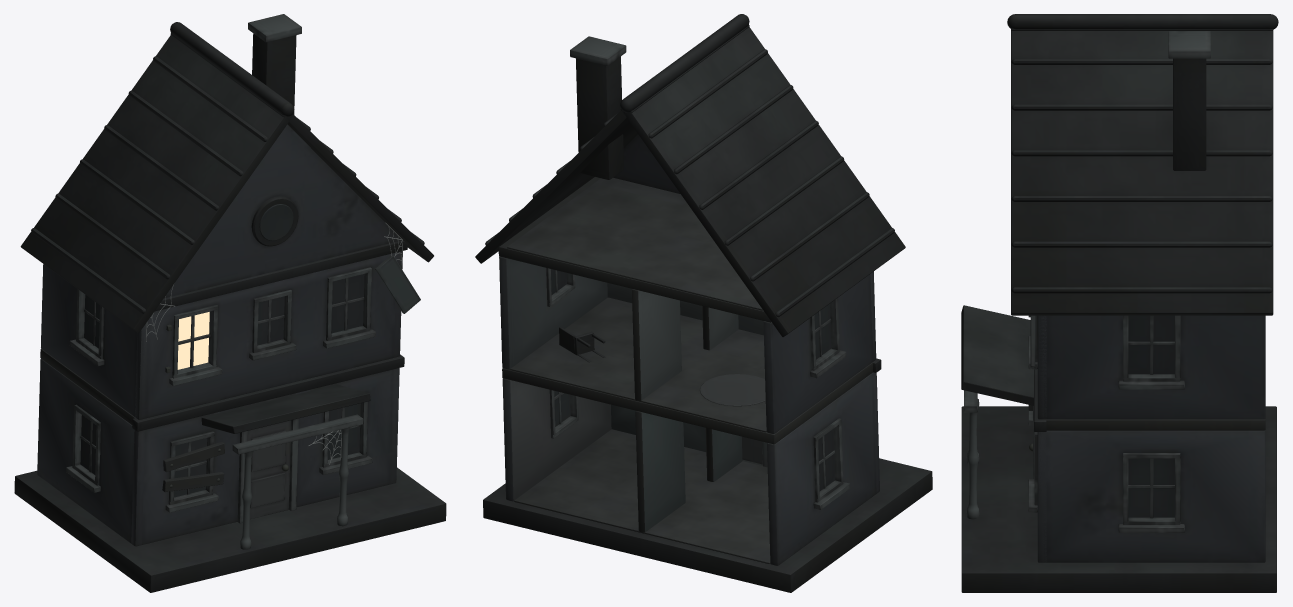
The model's file is haunted-dollhouse.glb.
3 renders of one model, left to right at view 1: azimuth 30°, elevation 25°; view 2: azimuth 150°, elevation 25°; view 3: azimuth 270°, elevation 25°, orthographic. The views are drawn at different scales.
Parts seen in each view (by area): view 1: haunted-dollhouse_body, haunted-dollhouse_window_glow, haunted-dollhouse_web; view 2: haunted-dollhouse_body; view 3: haunted-dollhouse_body.
Part boxes in pixels (x1=…): haunted-dollhouse_body: x1=14, y1=14, x2=446, y2=592; haunted-dollhouse_window_glow: x1=177, y1=312, x2=209, y2=369; haunted-dollhouse_web: x1=146, y1=222, x2=402, y2=464; haunted-dollhouse_body: x1=475, y1=14, x2=932, y2=592; haunted-dollhouse_body: x1=961, y1=14, x2=1278, y2=592.
Size of the model in its own units: 0.5368 by 0.7426 by 0.4173.
3 materials, 1 textured.
